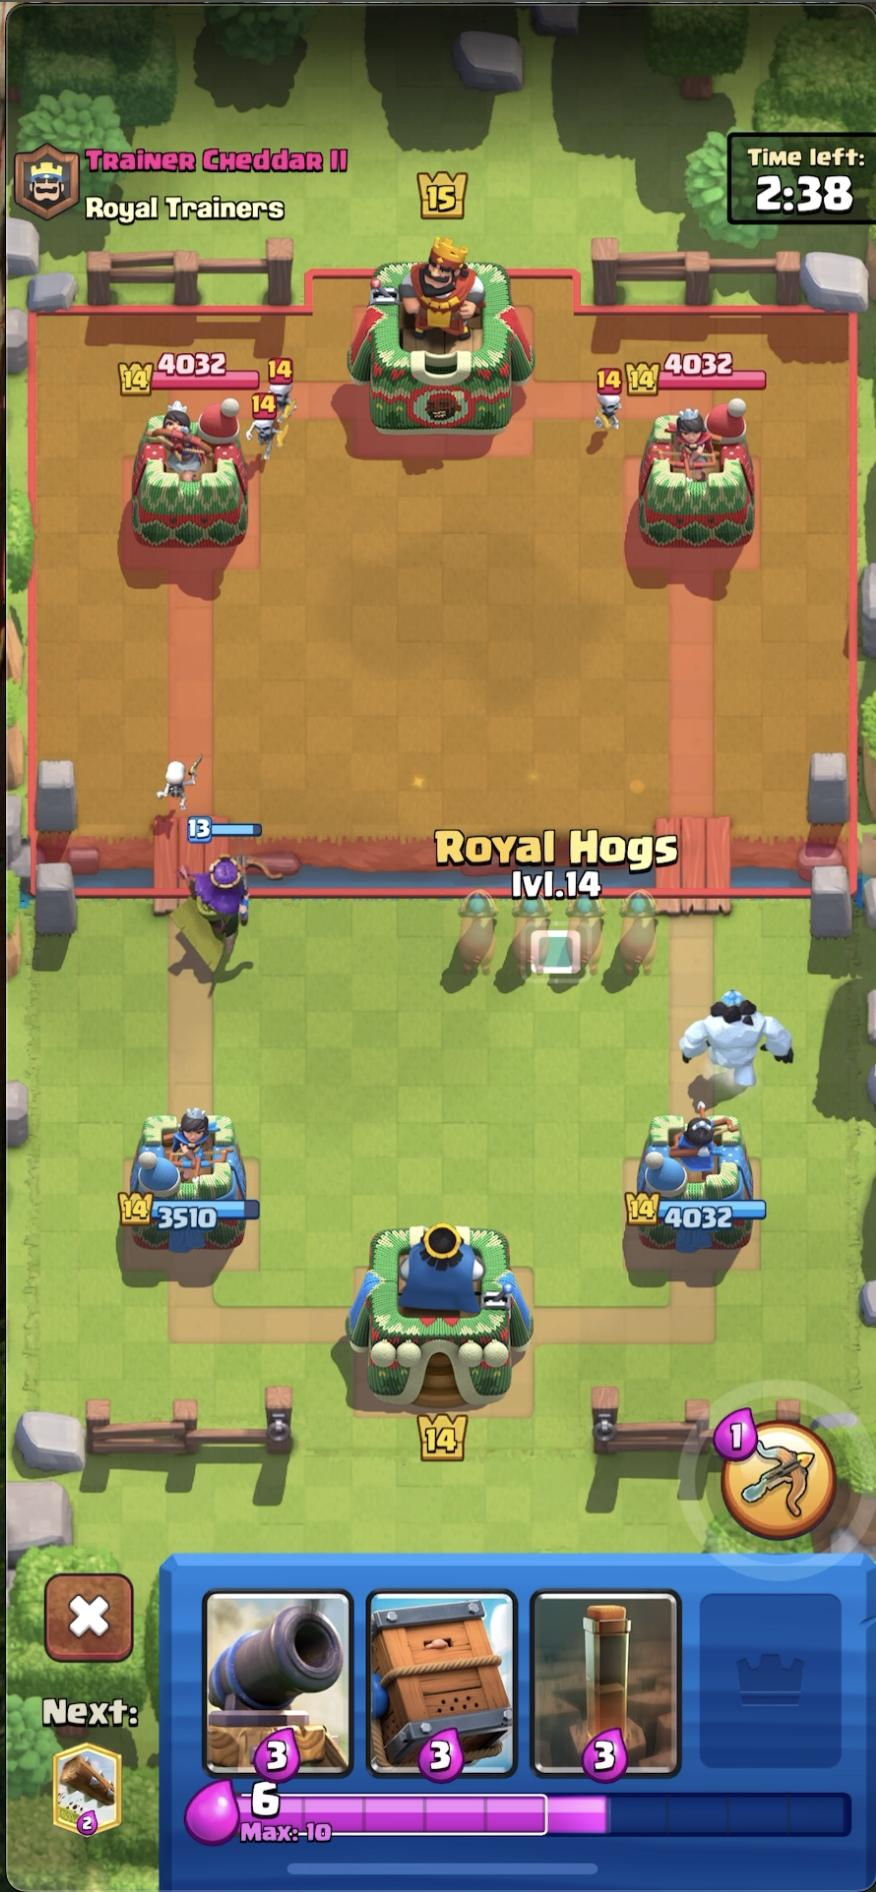elixir bar: (181, 1774, 367, 1859)
timer: (726, 134, 876, 222)
